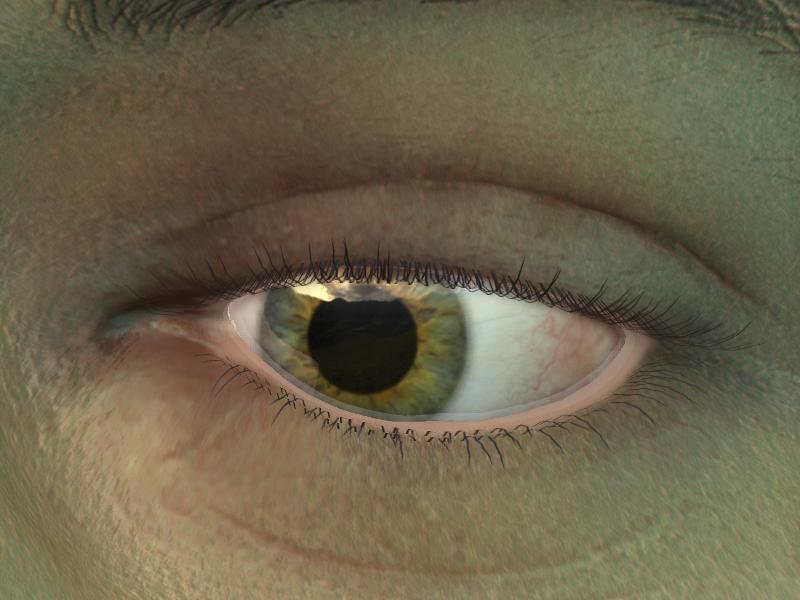eye: (257, 273, 466, 421)
